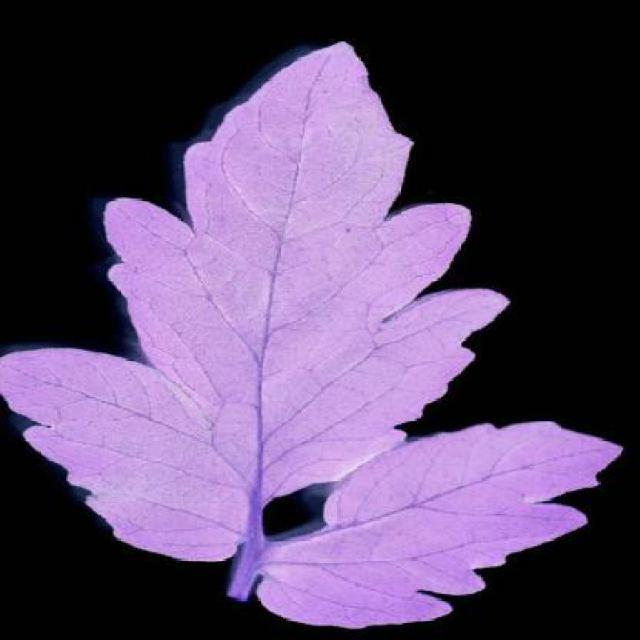Tomato bacterial spot leaf: (11, 24, 464, 566), (262, 411, 630, 620)
